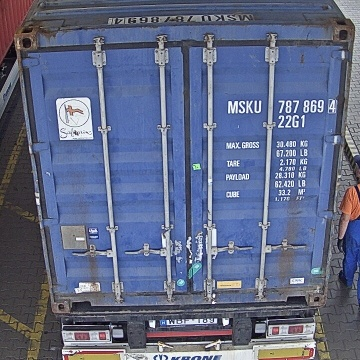serial_id: (228, 99, 336, 113)
